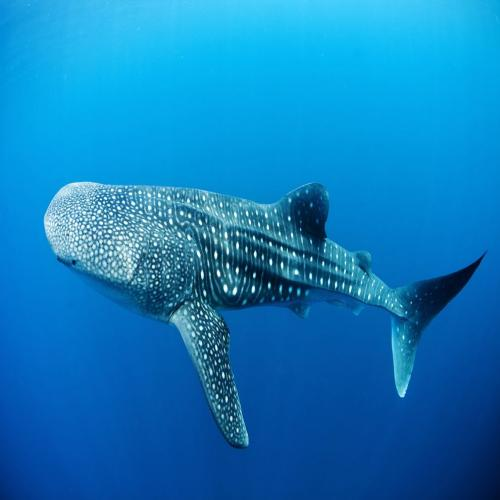shark-endangered: (44, 178, 487, 452)
